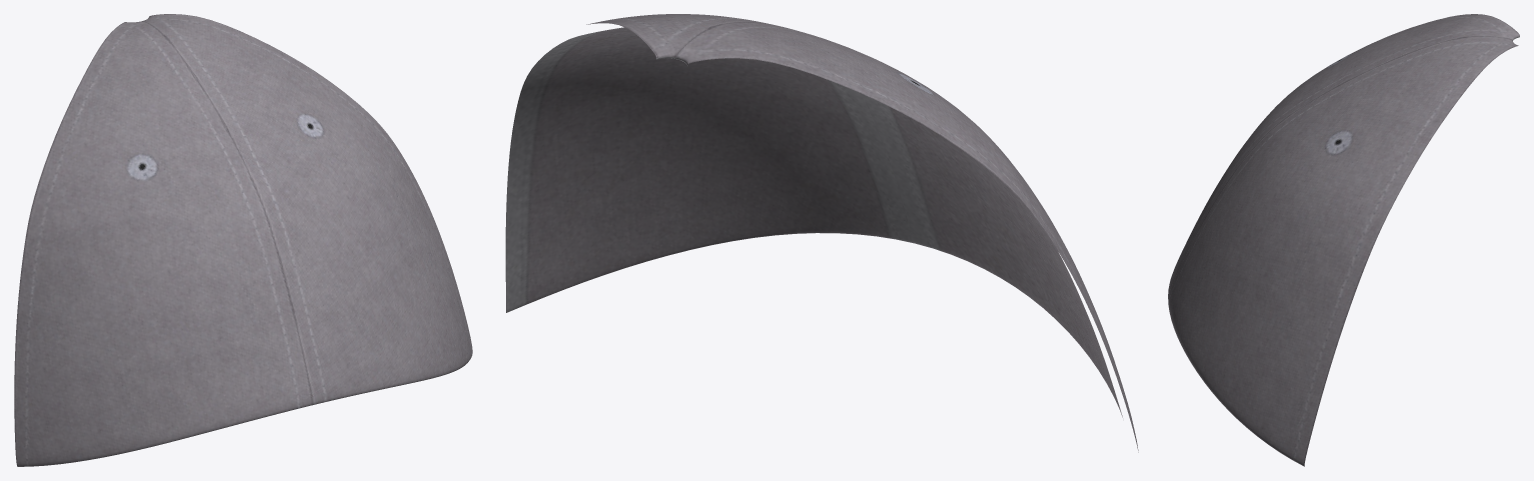
3 views of the same model, side by side, from view 1: azimuth 30°, elevation 25°; view 2: azimuth 150°, elevation 25°; view 3: azimuth 270°, elevation 25° (orthographic). The views are drawn at different scales.
Visible parts, largest first — view 1: baseballCap.003; view 2: baseballCap.003; view 3: baseballCap.003.
Boxes of the visible parts, box(x1,y1,x2,y2) form: baseballCap.003: box(14, 14, 472, 466); baseballCap.003: box(505, 14, 1138, 452); baseballCap.003: box(1168, 14, 1519, 466).
Bounding box in the file's own units: 1.58 × 1.06 × 1.05.
1 material, 1 textured.
